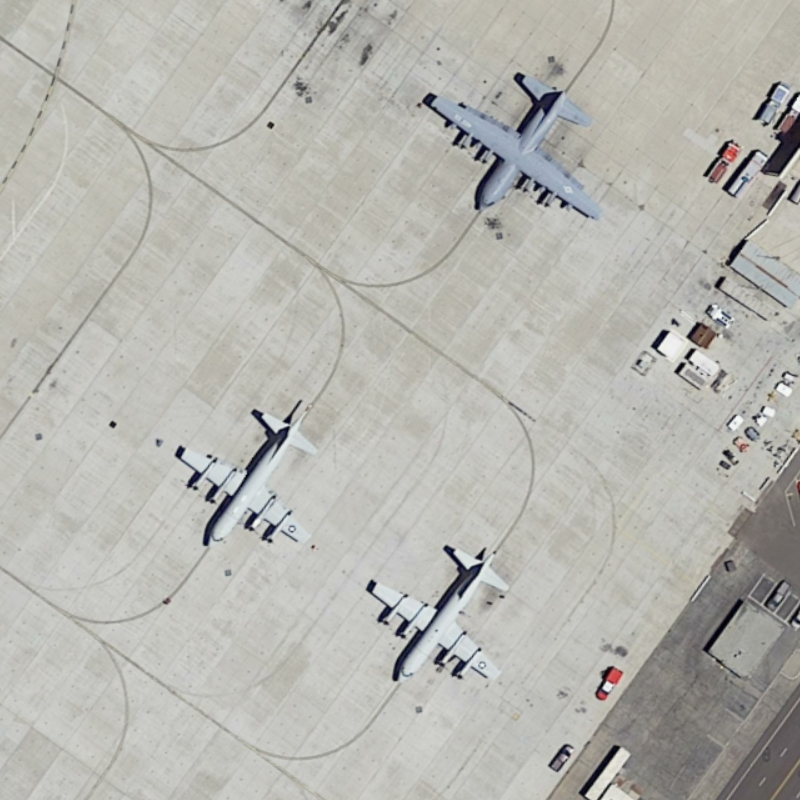A2: (419, 68, 609, 227)
A9: (170, 397, 320, 556), (360, 539, 510, 697)
